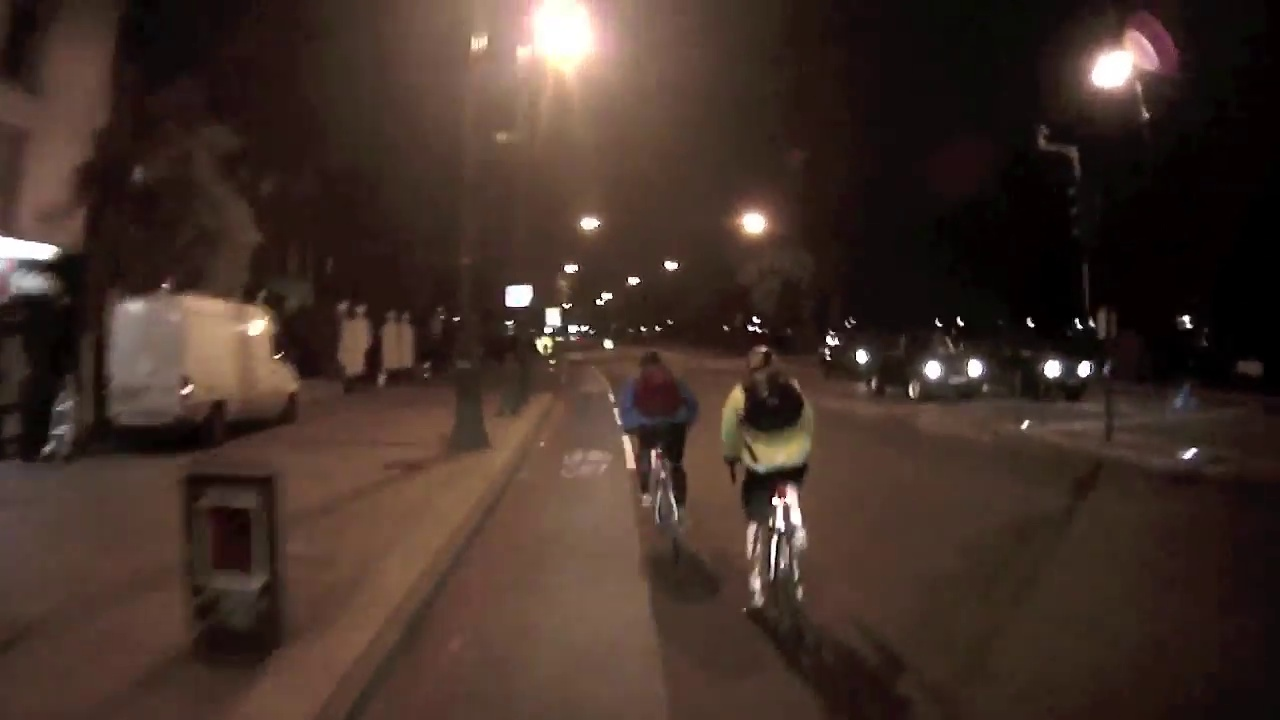cyclist_back: (715, 343, 822, 645), (618, 344, 702, 559)
